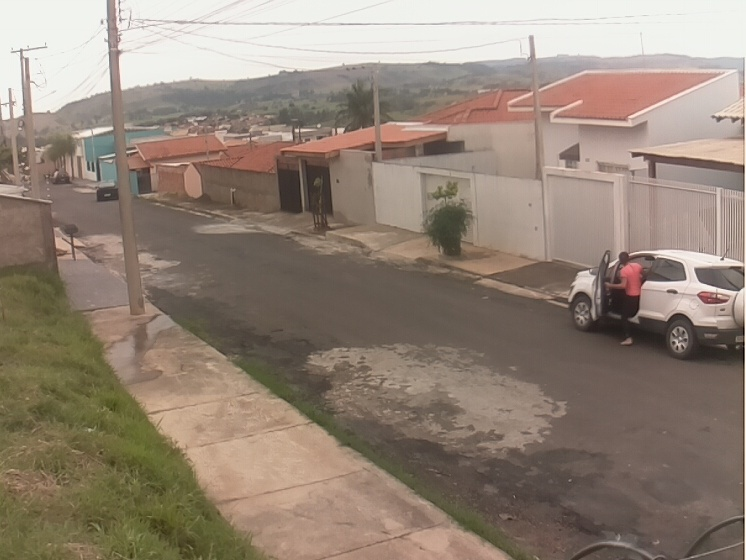person: (603, 251, 645, 348)
